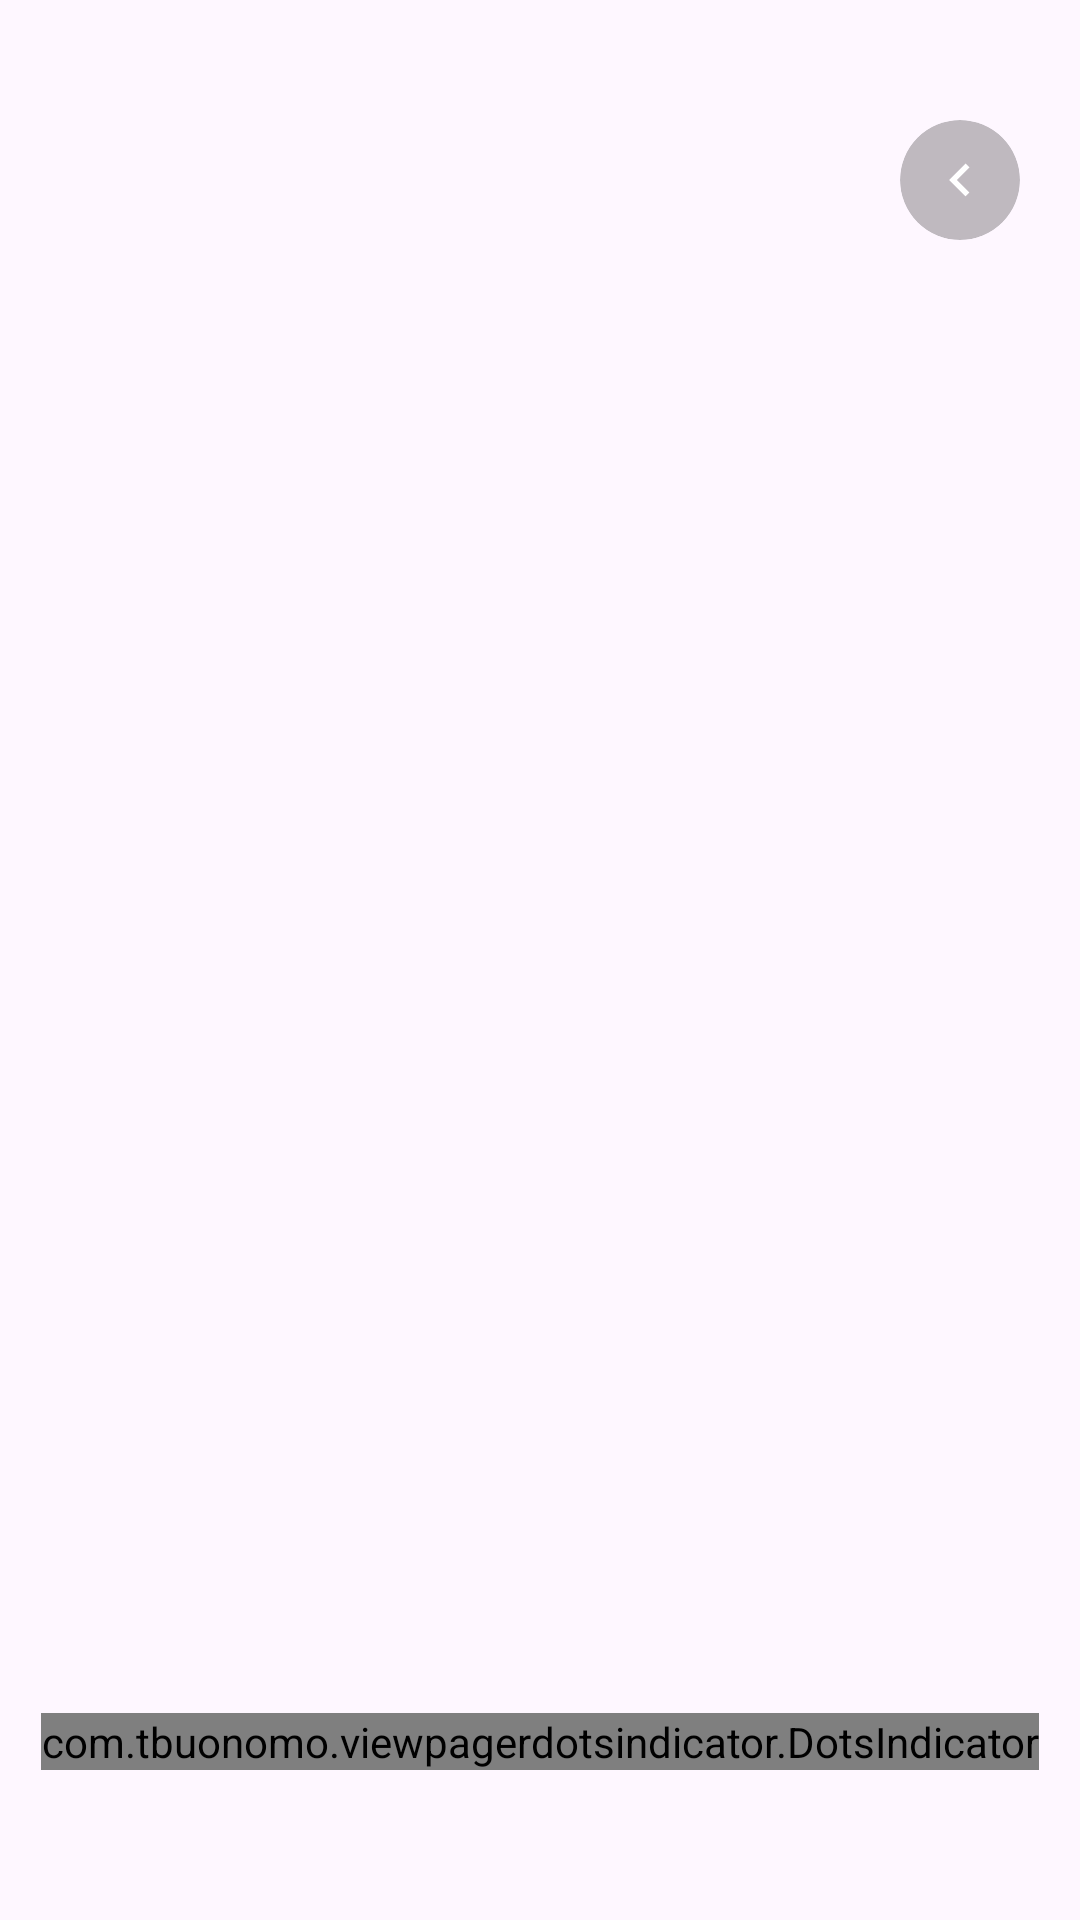

Where to tap for icons on this 1080 x 1920 app screen, as point (x, y):
arrow back: point (959, 180)
